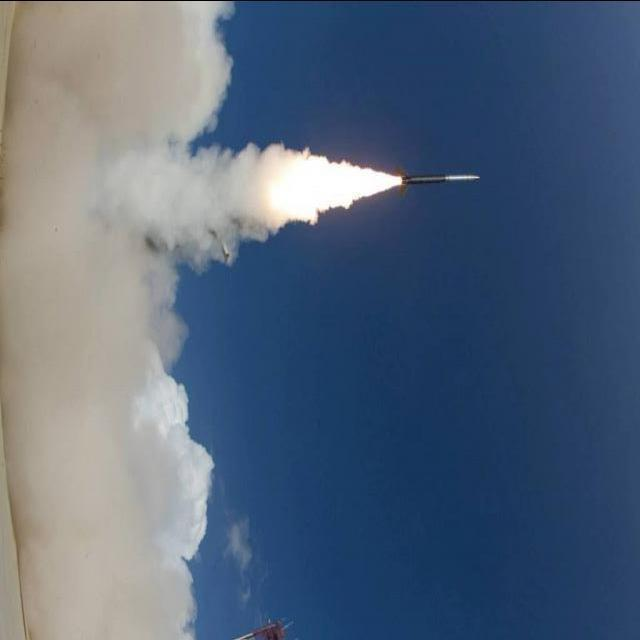missile: (398, 158, 484, 214)
